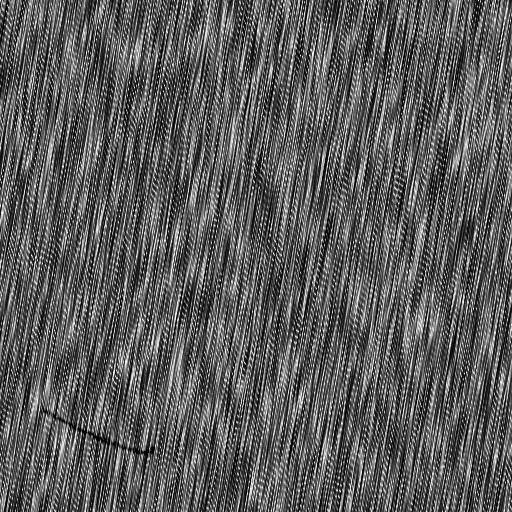DefectTypeC: (37, 406, 157, 458)
